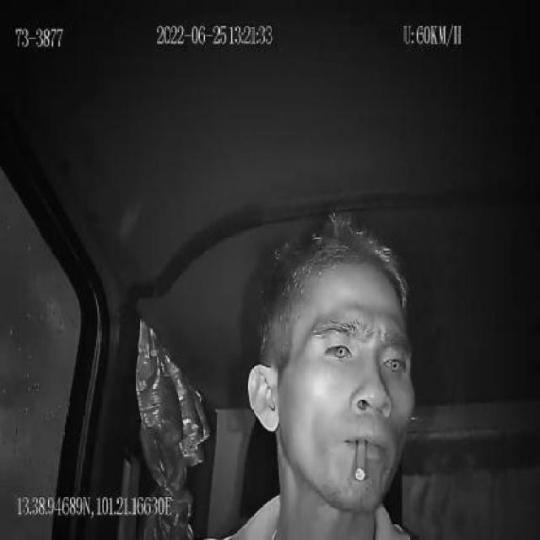smoking: (355, 436, 368, 484)
